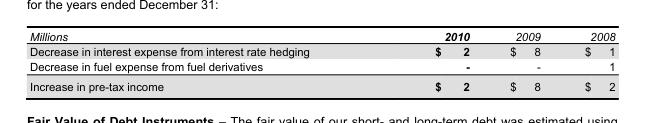table: (29, 29, 614, 92)
table column: (29, 29, 371, 92), (371, 29, 488, 92), (488, 29, 561, 92), (561, 29, 614, 92)
table column header: (29, 29, 614, 43)
table row: (29, 58, 614, 75), (29, 75, 614, 92), (29, 43, 614, 58), (29, 29, 614, 43)
